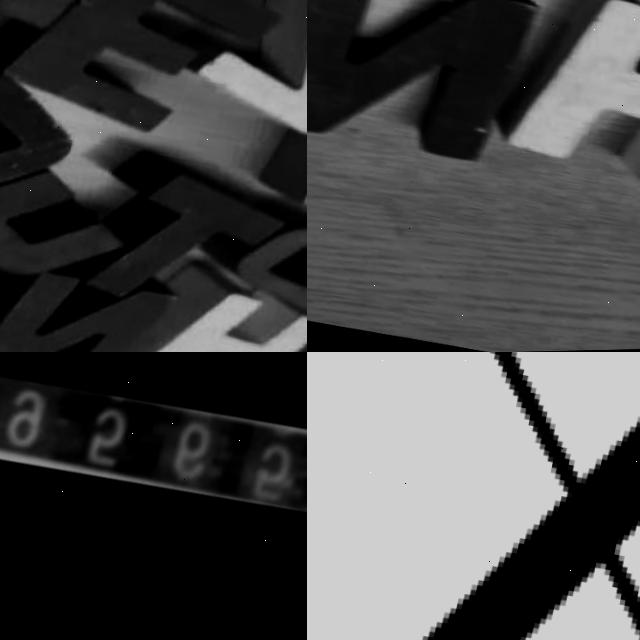5: (81, 404, 133, 475), (248, 441, 300, 510)
6: (169, 419, 217, 488)
9: (0, 385, 51, 456)
E: (0, 0, 296, 168)
H: (509, 0, 640, 213), (101, 253, 307, 352)
K: (0, 124, 139, 349)
N: (307, 0, 544, 177), (0, 239, 206, 352)
U: (0, 4, 99, 272)
X: (307, 352, 640, 640)
Z: (137, 0, 307, 158)
